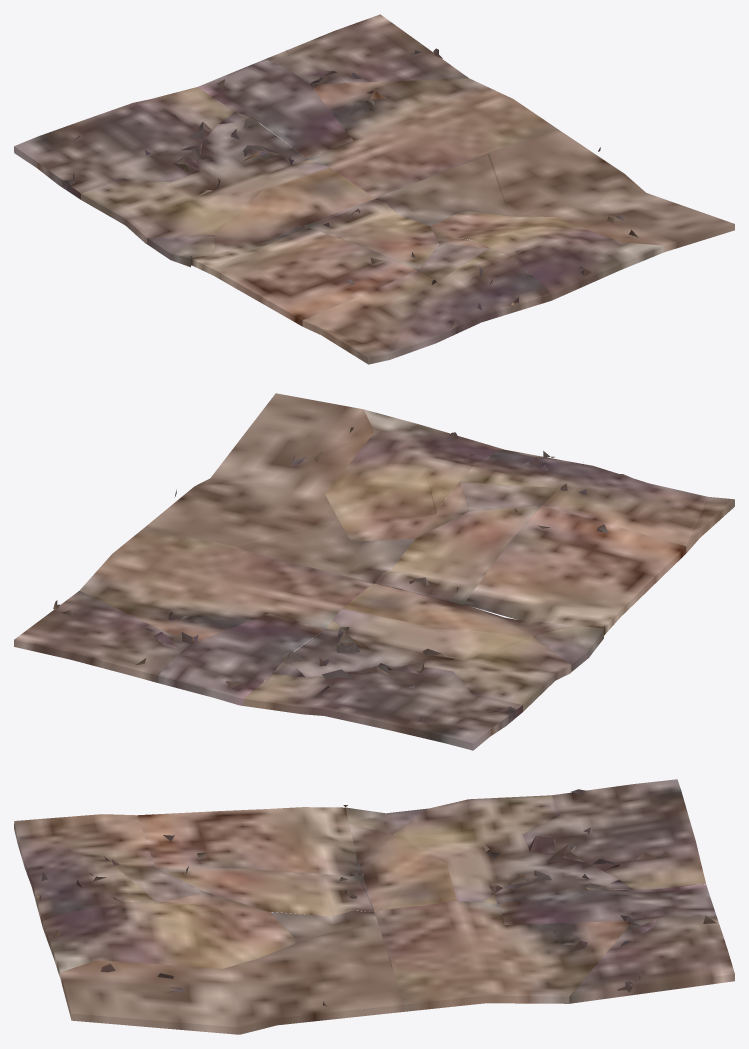
The picture shows the model from 3 angles, top to bottom: view 1: azimuth 30°, elevation 25°; view 2: azimuth 150°, elevation 25°; view 3: azimuth 270°, elevation 25°; orthographic projection. The views are drawn at different scales.
Parts seen in each view (by area): view 1: Mesh_0; view 2: Mesh_0; view 3: Mesh_0.
Boxes of the visible parts, left/top/right/bottom form: Mesh_0: left=14, top=14, right=734, bottom=364; Mesh_0: left=14, top=393, right=734, bottom=750; Mesh_0: left=14, top=779, right=734, bottom=1034.
Bounding box in the file's own units: 532 × 47.22 × 659.
Materials: 1 (1 with a texture image).
